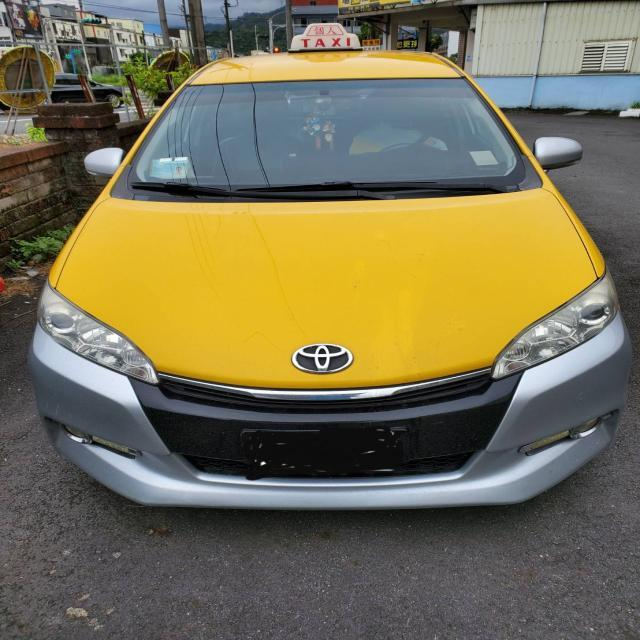taxi: (34, 23, 636, 539)
